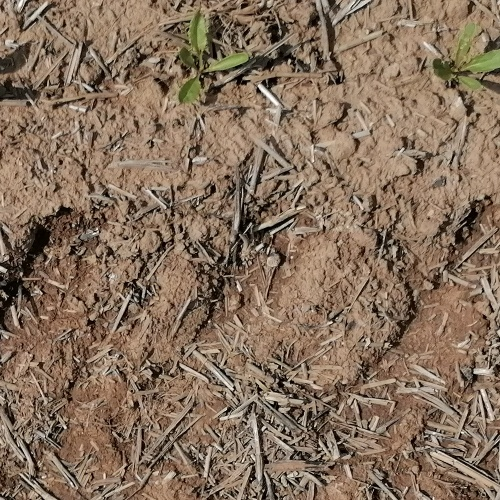beet: (175, 11, 250, 108), (430, 22, 500, 94)
